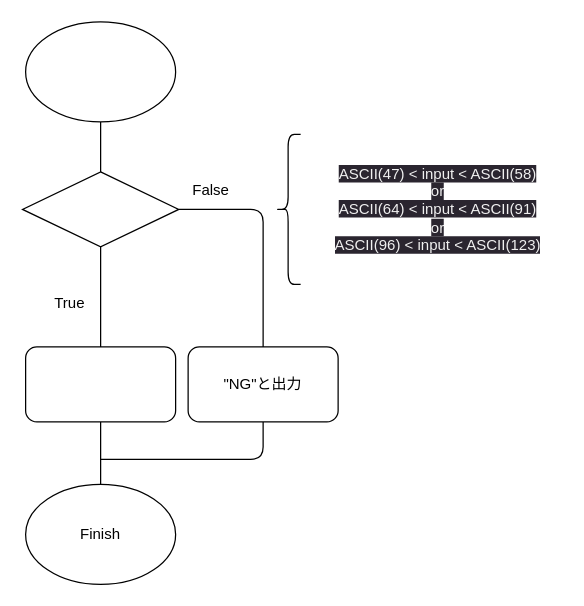
Image size: 584x606. Some labels were removed from this diagram. Each missing label, with the centre of its shape:
"OK"と出力: point 100,384
Start: point 100,71
